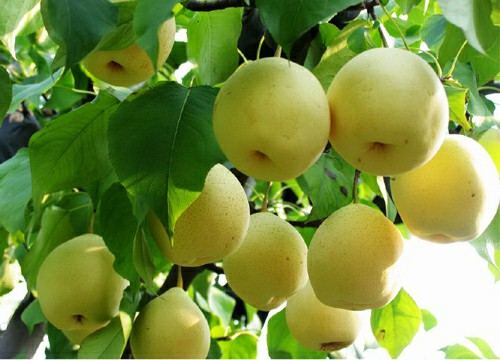pear: (324, 48, 450, 177), (213, 56, 329, 181), (389, 133, 500, 243), (143, 155, 250, 265), (307, 203, 407, 310), (38, 232, 130, 332), (73, 1, 176, 86), (223, 210, 308, 311), (130, 286, 210, 360), (286, 274, 359, 351)
